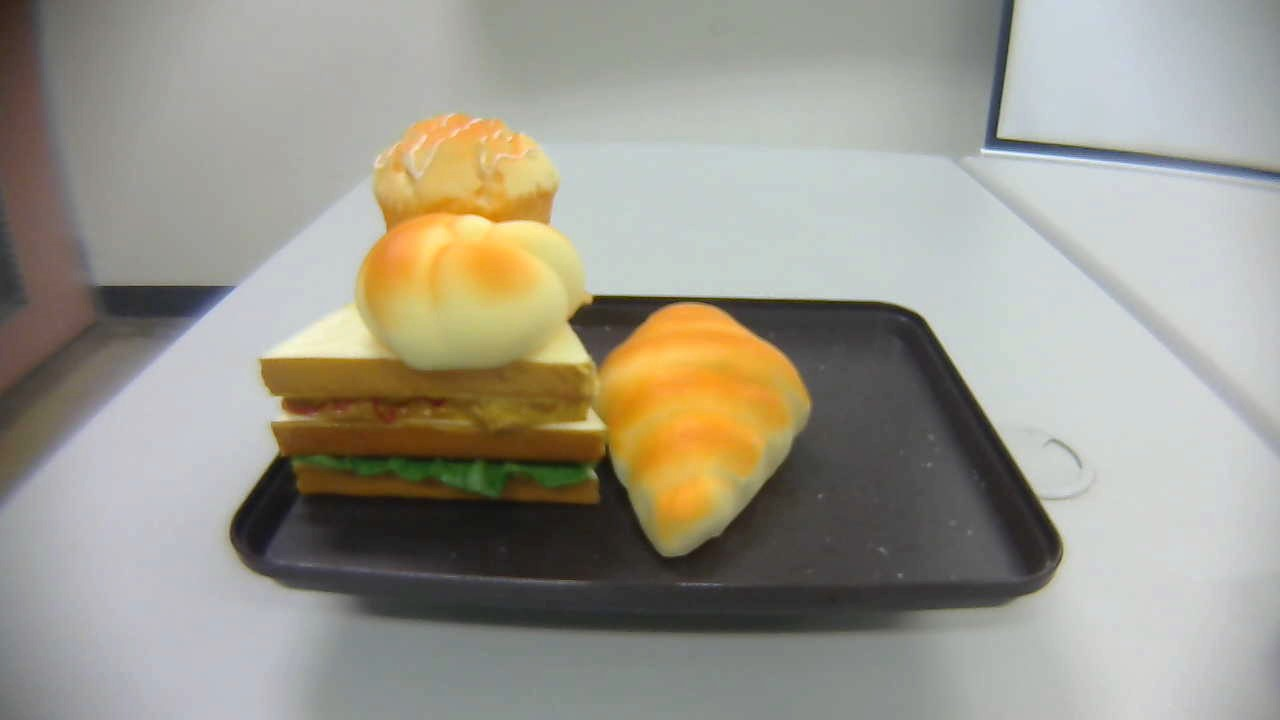croissant: (593, 299, 813, 563)
cupcake: (371, 114, 563, 286)
sandwich: (259, 230, 612, 506)
twist bread: (355, 213, 589, 372)
